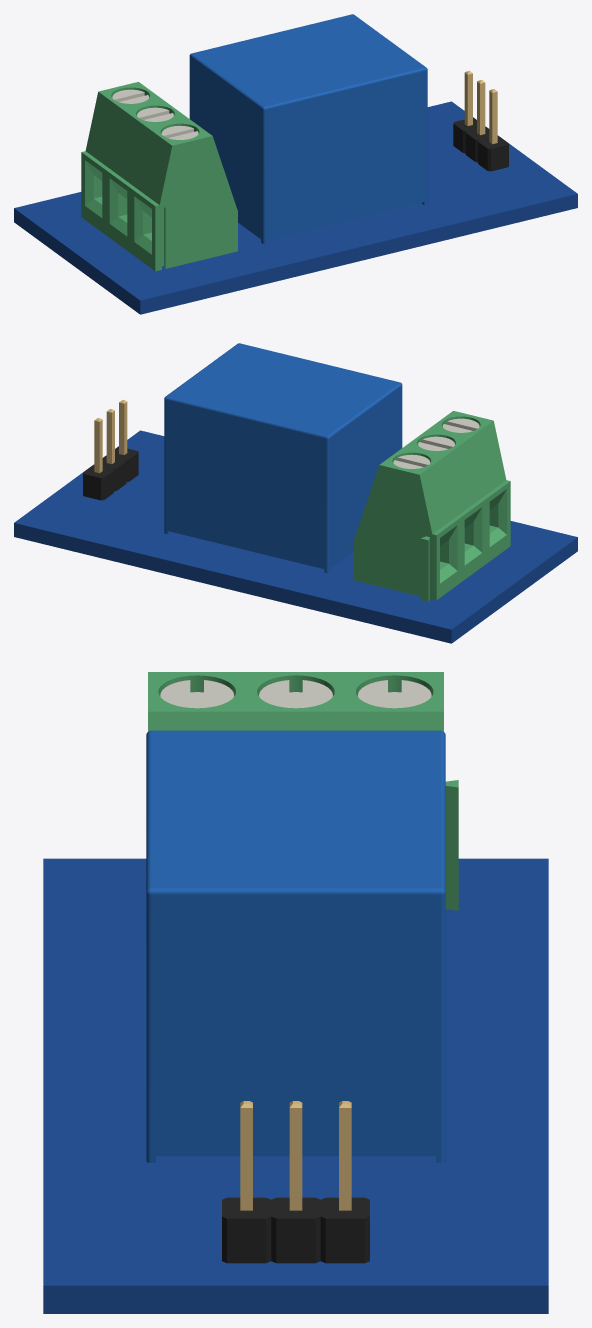
Rendered from relay-module.glb.
The picture shows the model from 3 angles, top to bottom: view 1: azimuth 30°, elevation 25°; view 2: azimuth 150°, elevation 25°; view 3: azimuth 270°, elevation 25°; orthographic projection. The views are drawn at different scales.
Visible parts, largest first — view 1: relay-module; view 2: relay-module; view 3: relay-module.
Boxes of the visible parts, x1,y1,x2,y2 form: relay-module: (14,14,577,314); relay-module: (14,343,577,643); relay-module: (43,672,548,1313).
Size of the model in its own units: 52 by 19.1 by 26.
